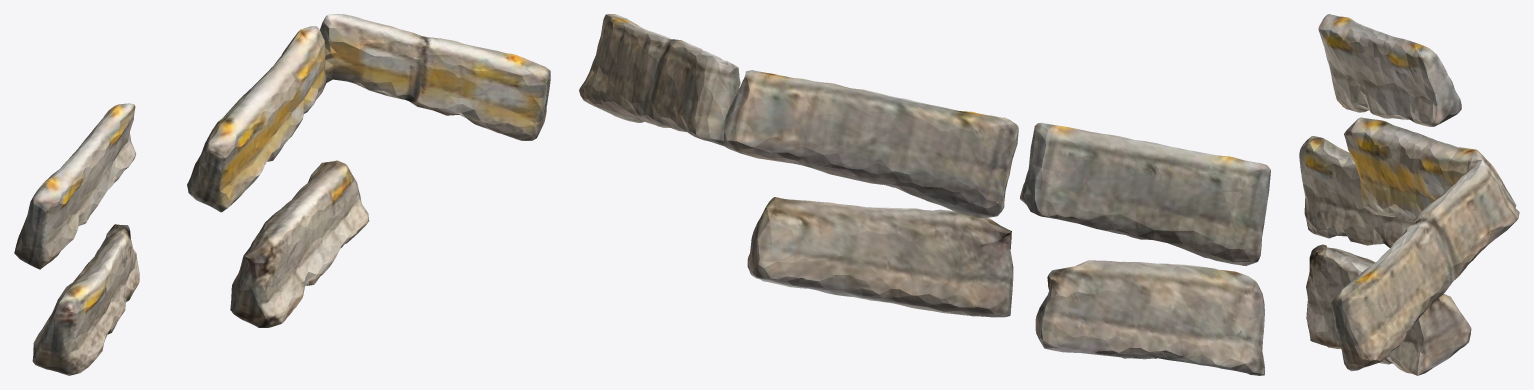
Rendered from concrete_barrier.glb.
3 views of the same model, side by side, from view 1: azimuth 30°, elevation 25°; view 2: azimuth 150°, elevation 25°; view 3: azimuth 270°, elevation 25° (orthographic). The views are drawn at different scales.
Visible parts, largest first — view 1: geometry_0; view 2: geometry_0; view 3: geometry_0.
Boxes of the visible parts, x1,y1,x2,y2 form: geometry_0: (14, 14, 550, 375); geometry_0: (579, 14, 1270, 375); geometry_0: (1299, 14, 1519, 375).
Size of the model in its own units: 0.9762 by 0.3891 by 0.3116.
Materials: 1 (1 with a texture image).
